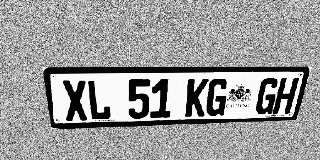1: (150, 79, 173, 118)
5: (128, 79, 150, 119)
G: (254, 78, 280, 115), (205, 78, 230, 116)
H: (272, 78, 299, 114)
K: (185, 79, 209, 117)
L: (86, 80, 111, 120)
X: (61, 80, 89, 121)
